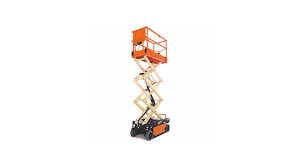Scissor Lift: (130, 26, 170, 143)
